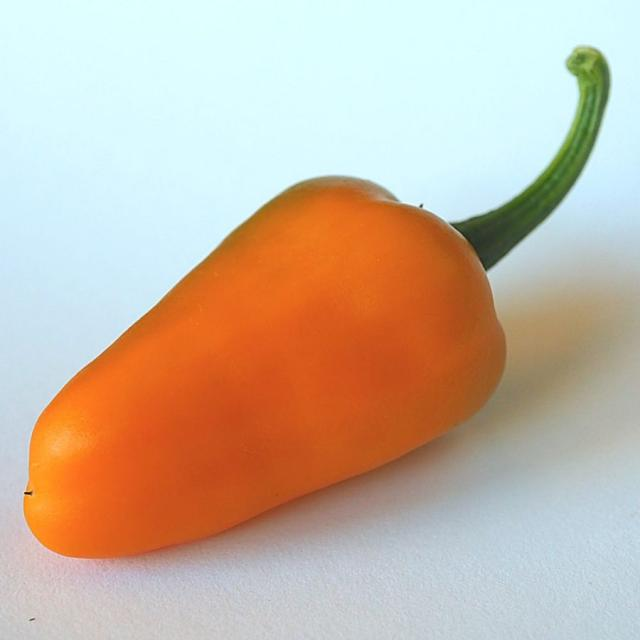aji: (28, 139, 554, 597)
